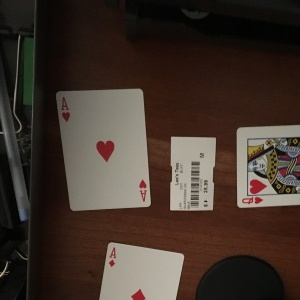card: (53, 87, 155, 213)
